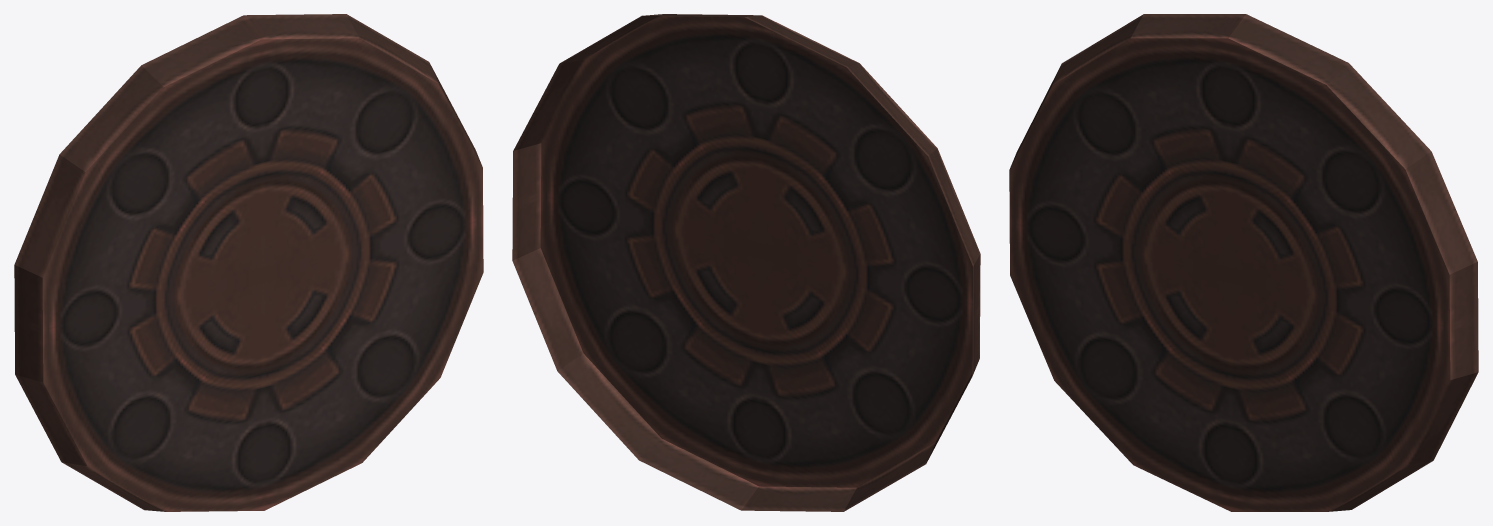
The model's file is sn_jixie_chilun_002.FBX.
The picture shows the model from 3 angles, left to right: view 1: azimuth 30°, elevation 25°; view 2: azimuth 150°, elevation 25°; view 3: azimuth 330°, elevation 25°; orthographic projection.
Parts seen in each view (by area): view 1: sn_jixie_chilun_002; view 2: sn_jixie_chilun_002; view 3: sn_jixie_chilun_002.
Boxes of the visible parts, left/top/right/bottom form: sn_jixie_chilun_002: left=14, top=14, right=483, bottom=511; sn_jixie_chilun_002: left=512, top=14, right=980, bottom=511; sn_jixie_chilun_002: left=1009, top=14, right=1478, bottom=511.
Size of the model in its own units: 4.57 by 0.3131 by 4.68.
